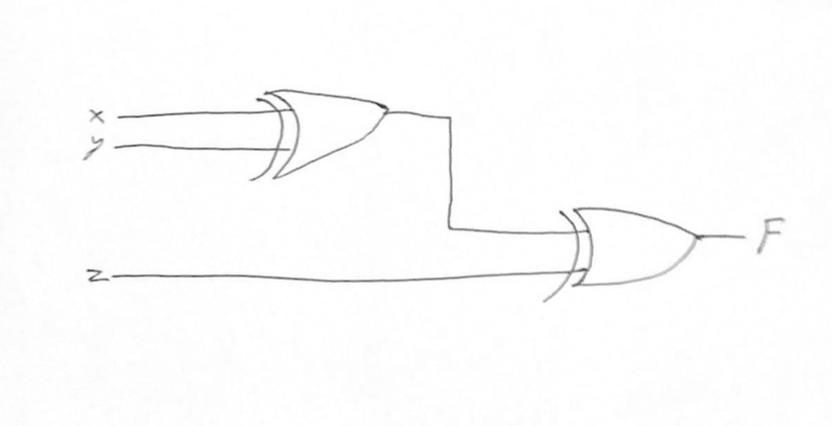XOR: (526, 195, 717, 307), (237, 64, 411, 182)
